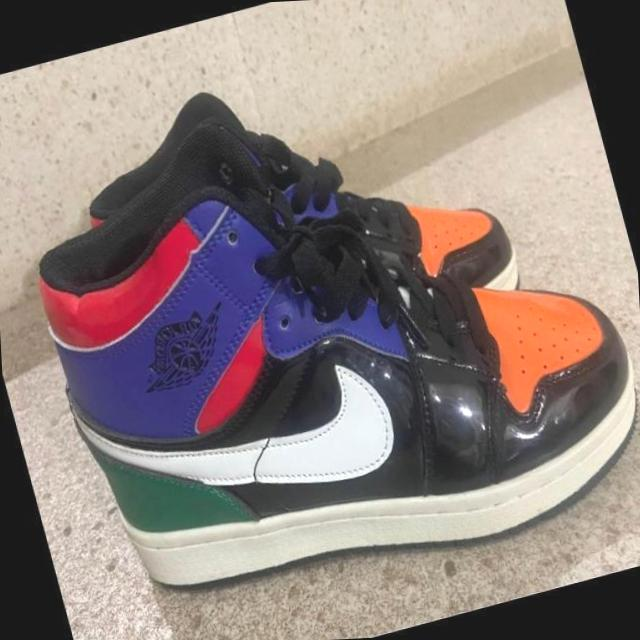nike_fake_jordan: (15, 80, 640, 639), (59, 19, 532, 398)
